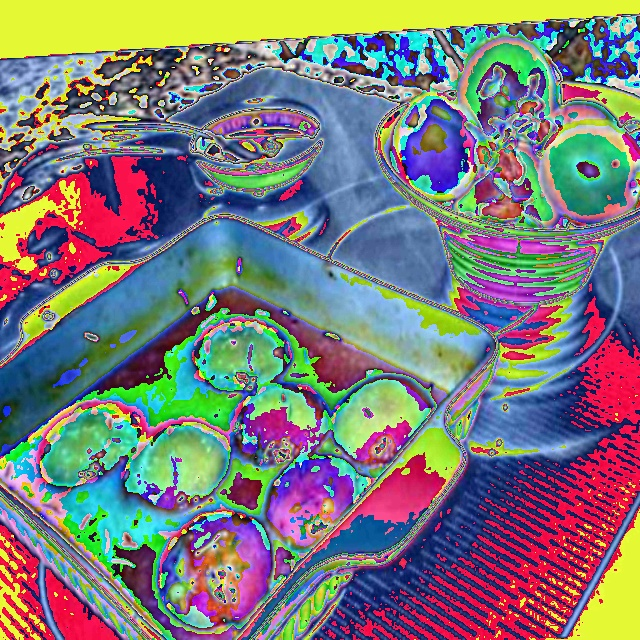background: (0, 287, 449, 639), (251, 35, 639, 231)
